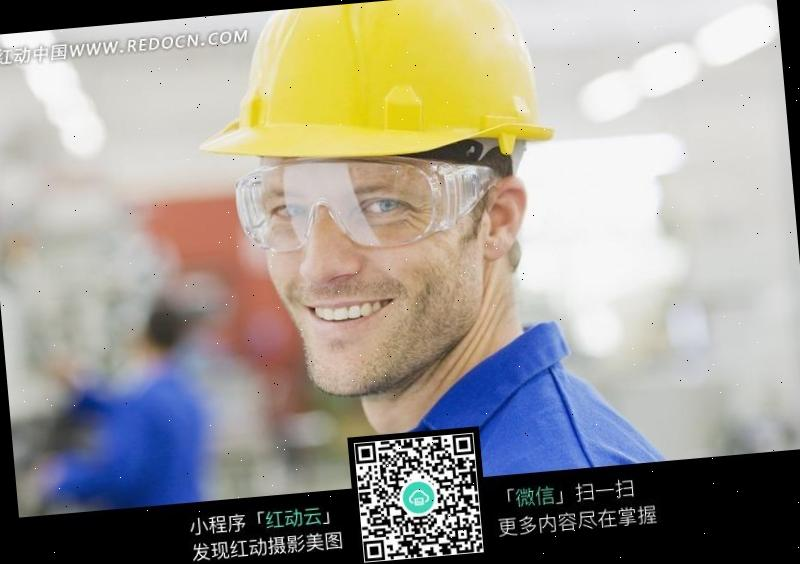helmet: (183, 0, 573, 198)
